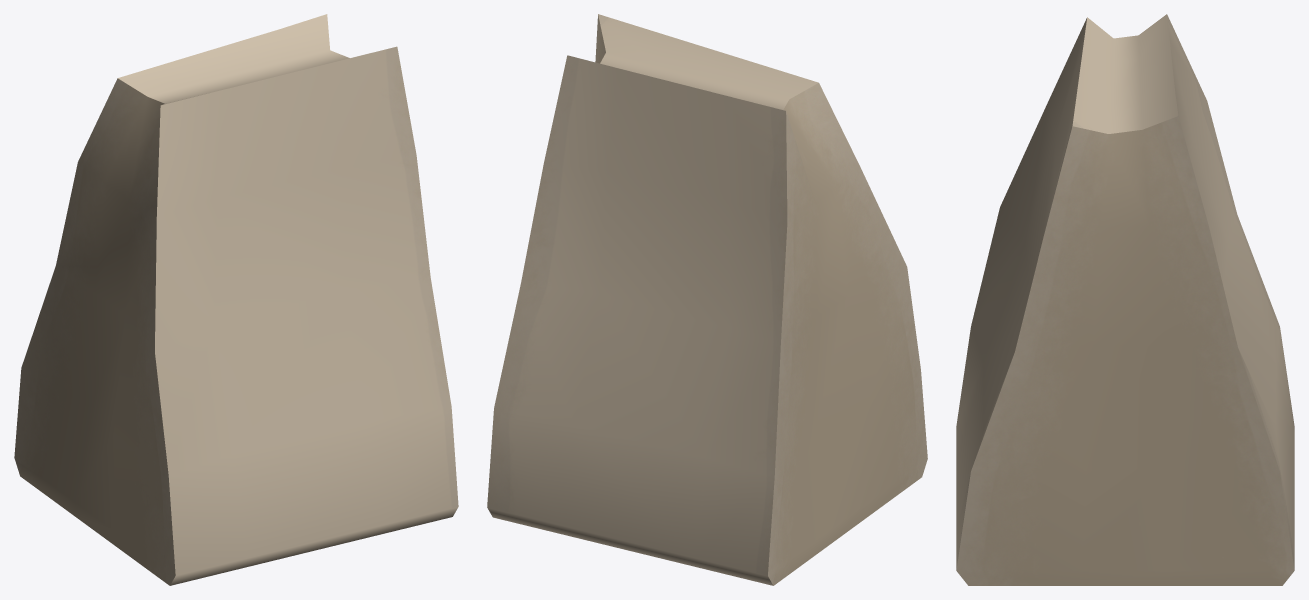
File: Take_out_bag.fbx
The picture shows the model from 3 angles, left to right: view 1: azimuth 30°, elevation 25°; view 2: azimuth 150°, elevation 25°; view 3: azimuth 270°, elevation 25°; orthographic projection. The views are drawn at different scales.
Parts seen in each view (by area): view 1: pCube1; view 2: pCube1; view 3: pCube1.
Boxes of the visible parts, left/top/right/bottom form: pCube1: left=14, top=14, right=458, bottom=585; pCube1: left=487, top=14, right=927, bottom=585; pCube1: left=956, top=14, right=1294, bottom=585.
Size of the model in its own units: 32.02 by 47.13 by 31.61.
